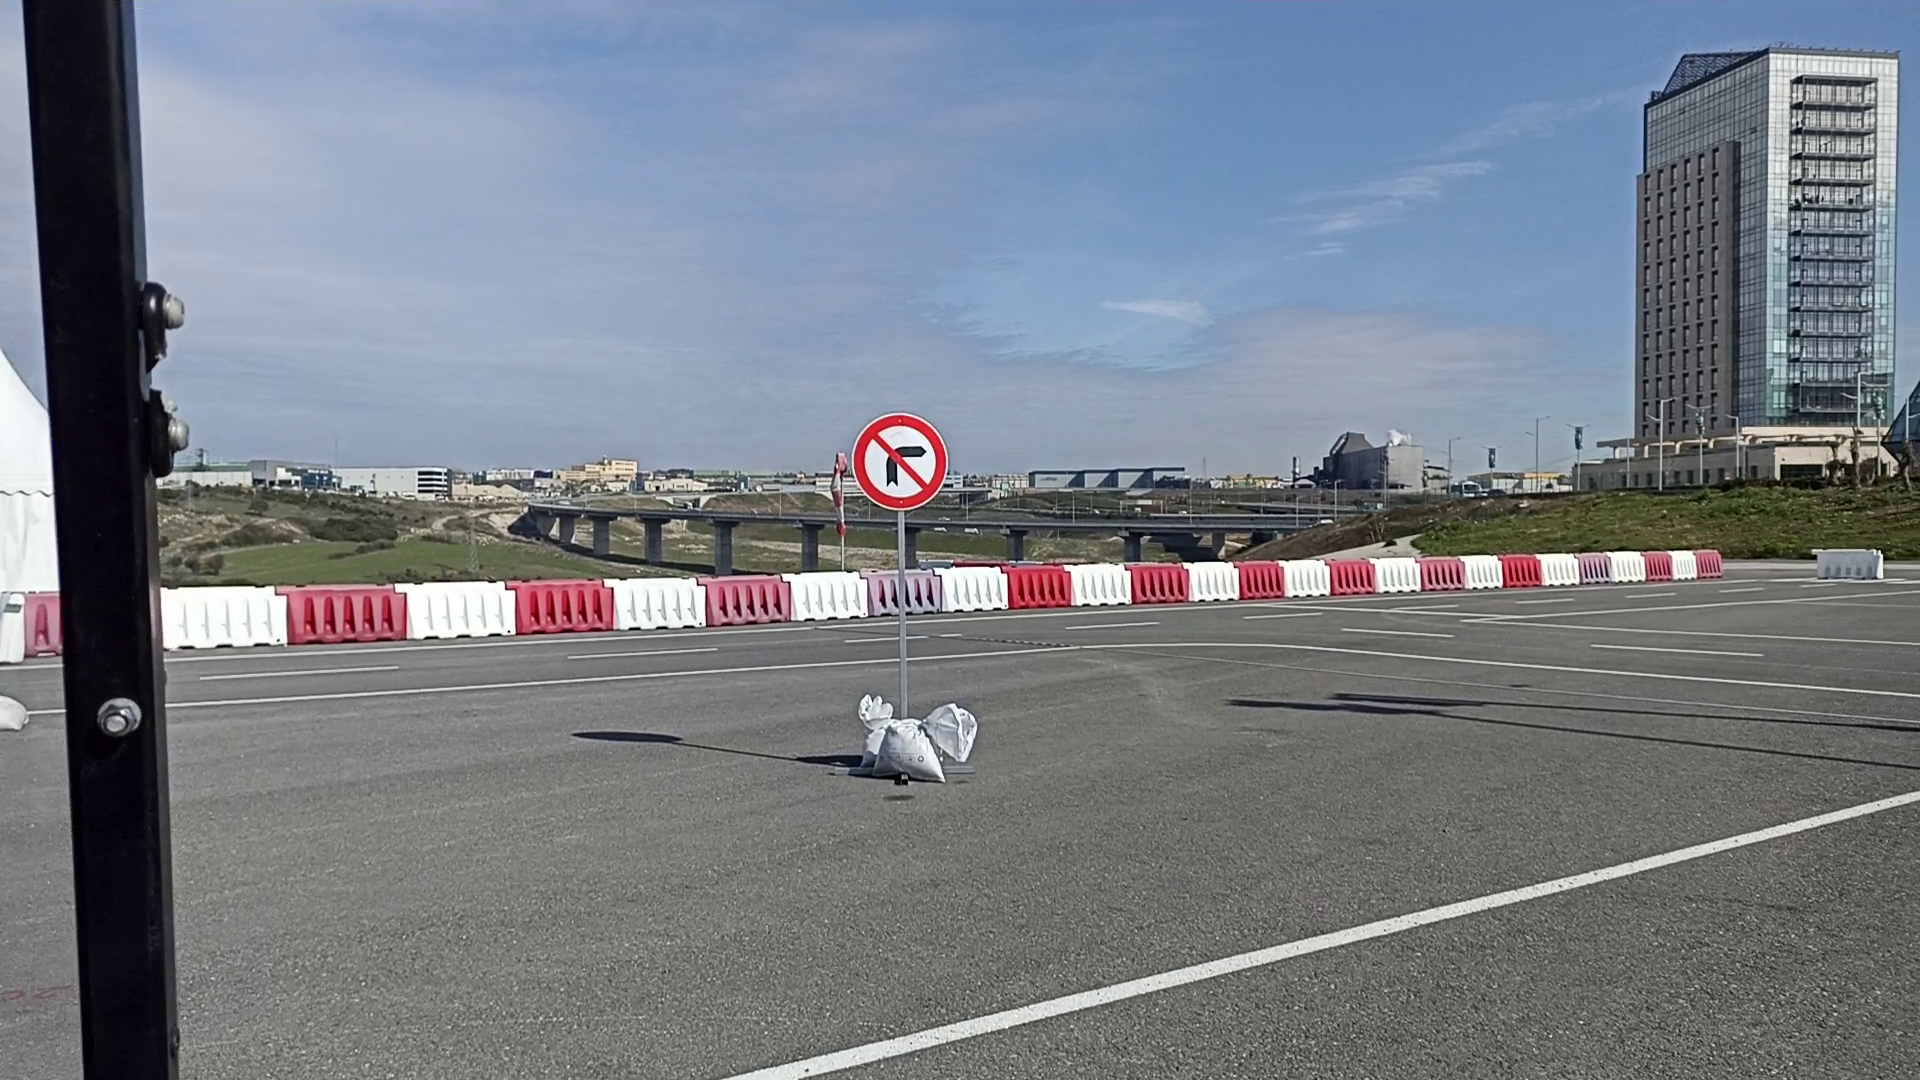noleftturn: (851, 410, 949, 512)
